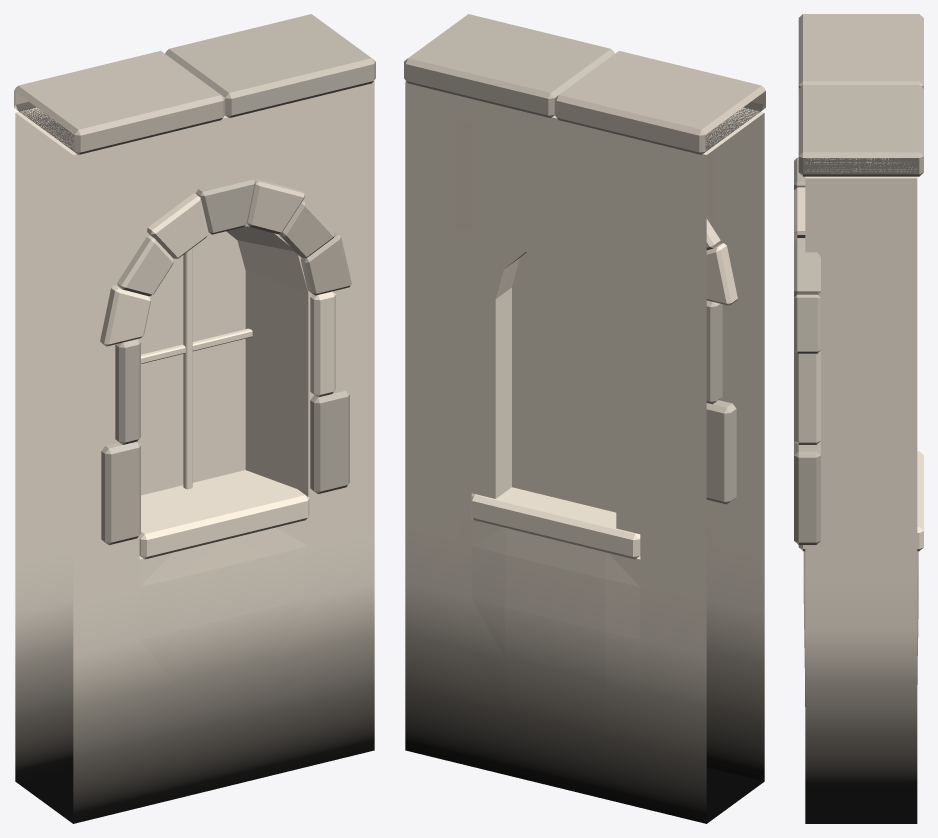
The model's file is SM_VKI_Wall_Stone_Window_150_Full.fbx.
The picture shows the model from 3 angles, left to right: view 1: azimuth 30°, elevation 25°; view 2: azimuth 150°, elevation 25°; view 3: azimuth 270°, elevation 25°; orthographic projection. The views are drawn at different scales.
Visible parts, largest first — view 1: SM_VKI_Wall_Stone_Window_150_Full.001; view 2: SM_VKI_Wall_Stone_Window_150_Full.001; view 3: SM_VKI_Wall_Stone_Window_150_Full.001.
Part boxes in pixels (<box>): SM_VKI_Wall_Stone_Window_150_Full.001: <box>14,14,375,823</box>; SM_VKI_Wall_Stone_Window_150_Full.001: <box>404,14,765,823</box>; SM_VKI_Wall_Stone_Window_150_Full.001: <box>794,14,923,823</box>.
Bounding box in the file's own units: 1.5 × 3.3 × 0.58.
